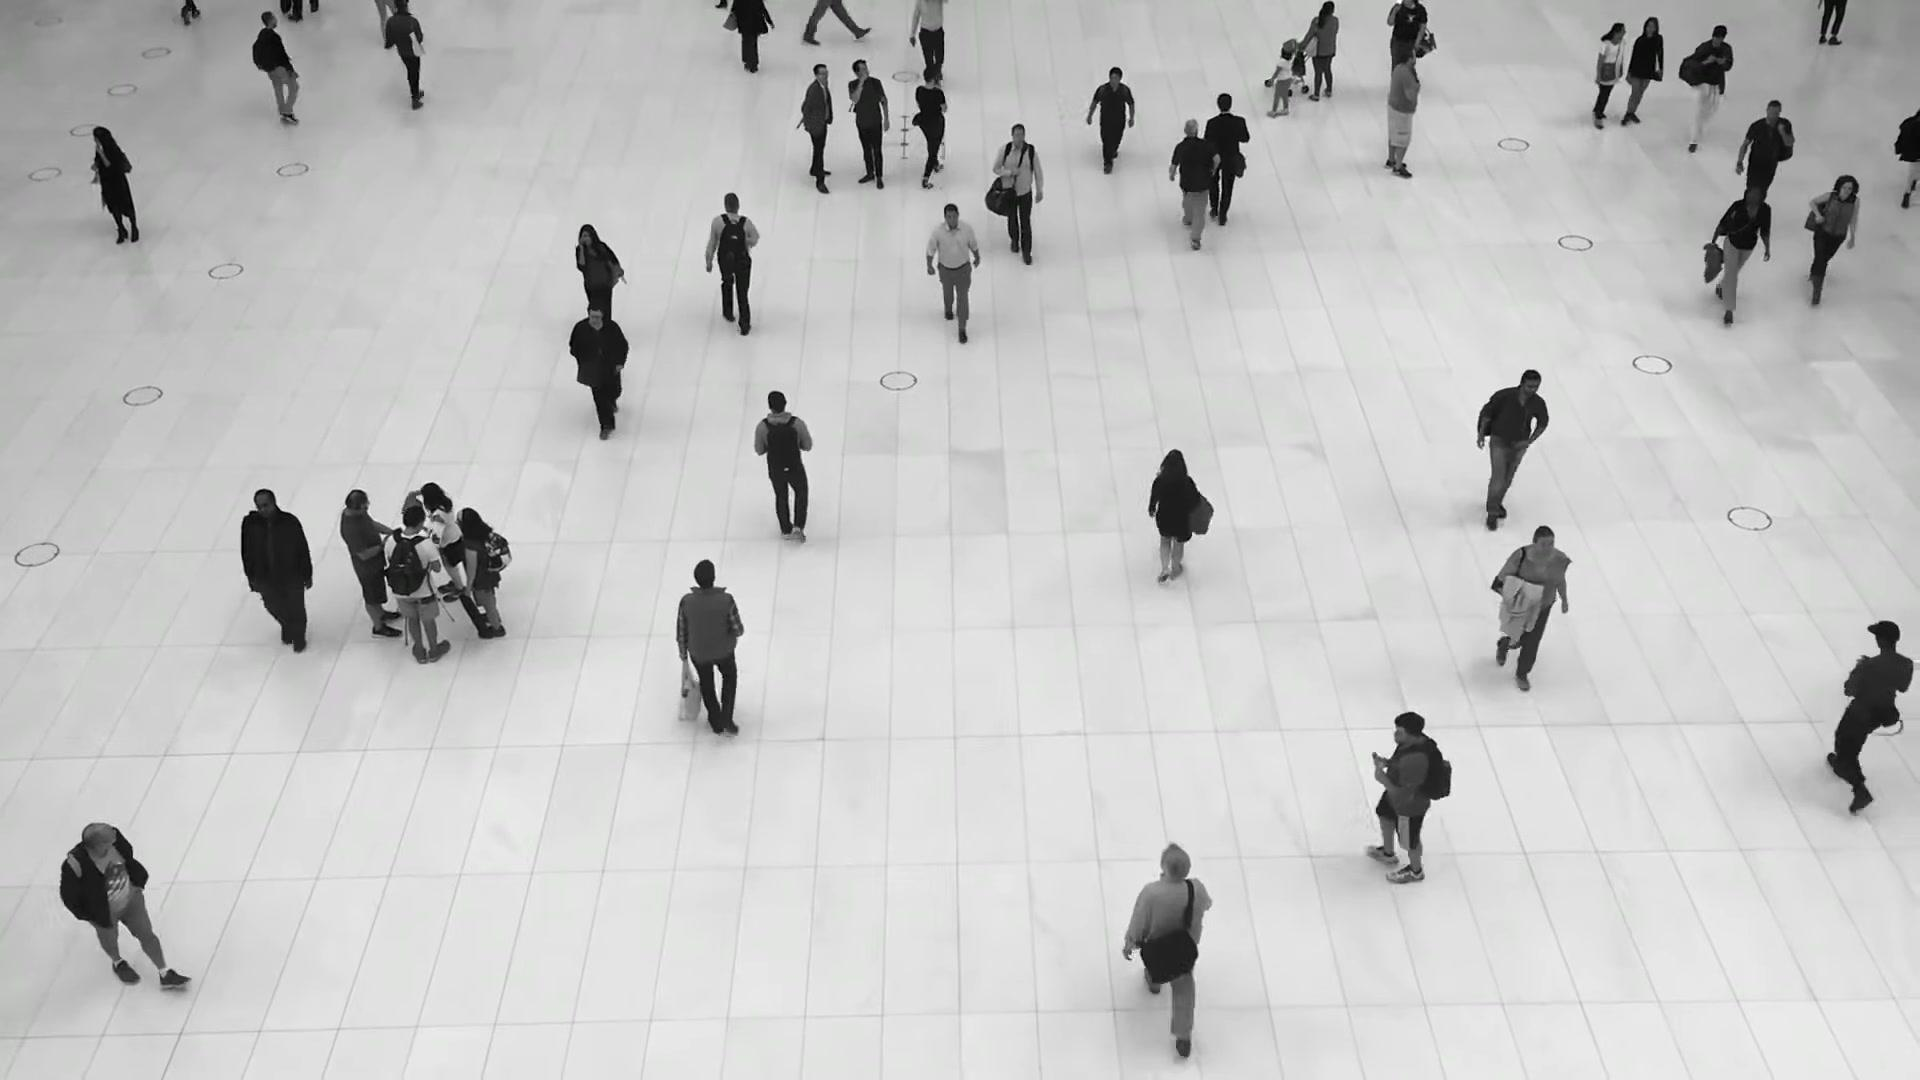person: (58, 819, 188, 991), (1123, 844, 1215, 1053), (1359, 711, 1453, 885), (1827, 619, 1912, 800), (1489, 524, 1569, 695), (674, 563, 746, 752), (240, 489, 315, 662), (1475, 368, 1548, 529), (383, 505, 450, 665), (753, 393, 813, 555), (1146, 451, 1211, 593), (340, 489, 402, 637), (1710, 181, 1772, 323), (568, 299, 630, 441), (926, 201, 983, 340), (705, 194, 761, 335), (1801, 172, 1860, 303), (456, 507, 511, 639), (1679, 23, 1734, 153), (993, 123, 1044, 260), (250, 12, 308, 130), (1203, 94, 1250, 229), (1169, 119, 1216, 249), (1735, 99, 1793, 199), (90, 126, 139, 244), (847, 59, 890, 190), (419, 482, 463, 602), (1087, 64, 1136, 172), (1619, 16, 1663, 130), (797, 63, 835, 194), (1384, 48, 1420, 179), (385, 0, 426, 110), (574, 223, 623, 314), (911, 67, 947, 189), (1592, 21, 1626, 130), (1301, 1, 1339, 101), (909, 0, 946, 80), (1266, 47, 1295, 118)
